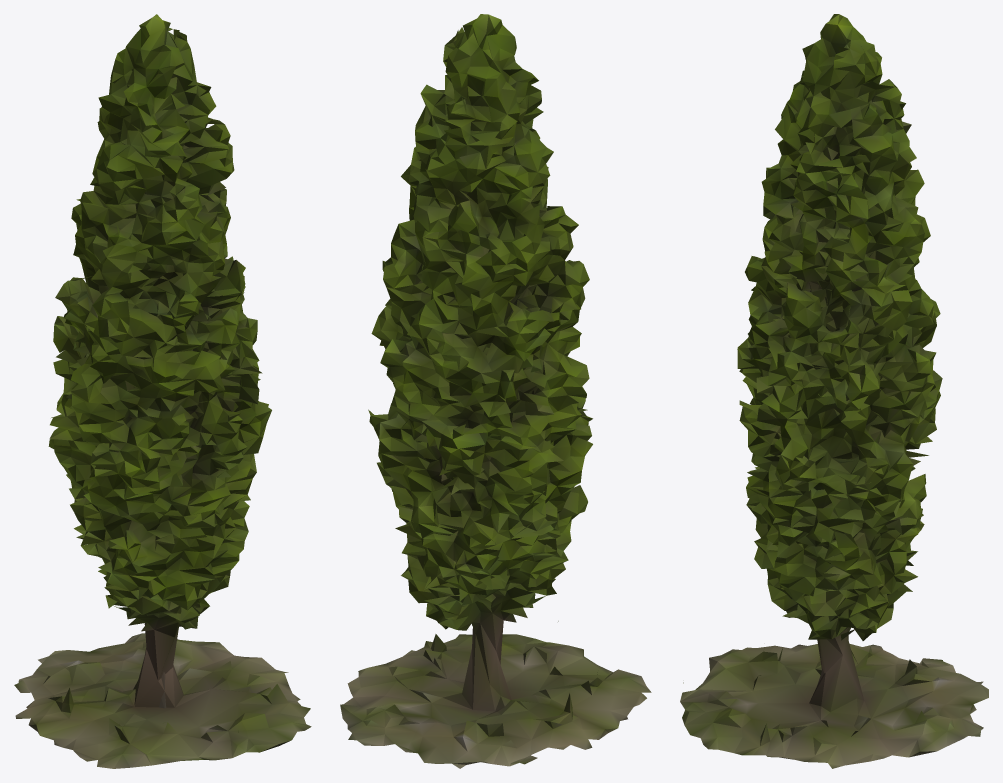
File: lib_tp_duonglhasa.vc.glb
3 views of the same model, side by side, from view 1: azimuth 30°, elevation 25°; view 2: azimuth 150°, elevation 25°; view 3: azimuth 270°, elevation 25° (orthographic).
Parts seen in each view (by area): view 1: lib_tp_duonglhasa; view 2: lib_tp_duonglhasa; view 3: lib_tp_duonglhasa.
Part boxes in pixels (<box>): lib_tp_duonglhasa: <box>14,14,311,768</box>; lib_tp_duonglhasa: <box>340,14,651,768</box>; lib_tp_duonglhasa: <box>680,14,988,768</box>.
Size of the model in its own units: 0.7708 by 2 by 0.8094.
